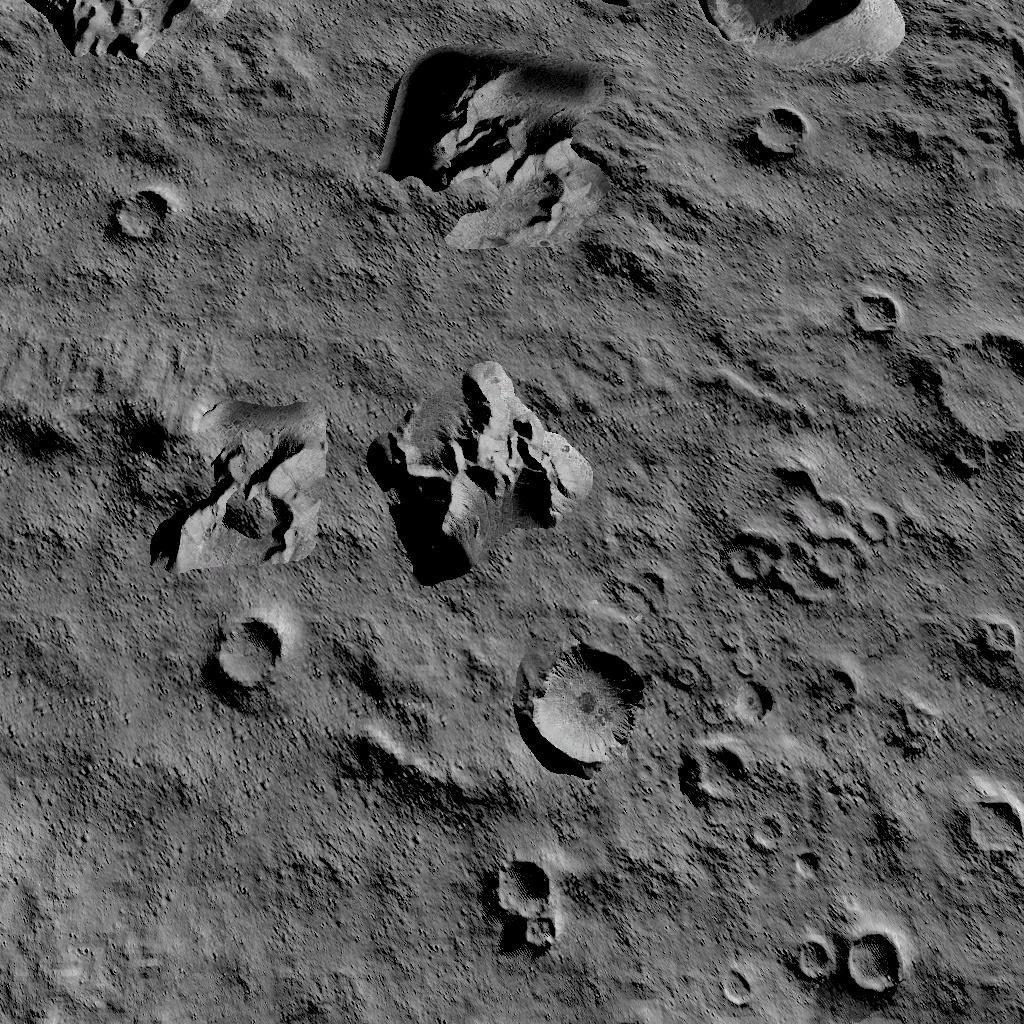Boulders: (0, 325, 328, 573), (374, 50, 710, 290), (368, 362, 590, 588), (0, 0, 283, 68)
Crater: (726, 465, 890, 610), (521, 642, 648, 770), (936, 328, 1024, 482), (786, 922, 910, 1006), (201, 608, 288, 698), (484, 855, 560, 958), (686, 738, 755, 812), (963, 612, 1024, 692), (961, 792, 1024, 868), (748, 102, 812, 160), (113, 185, 173, 243), (851, 290, 900, 338)
Plan surface: (0, 585, 191, 1024), (206, 828, 473, 1024), (194, 82, 360, 312), (726, 172, 1024, 276)
